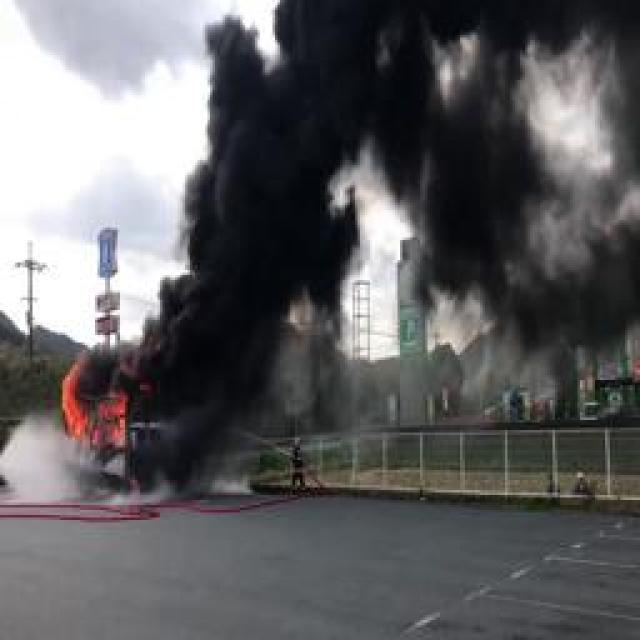Fire: (59, 359, 133, 444)
Smoke: (88, 0, 640, 499)
